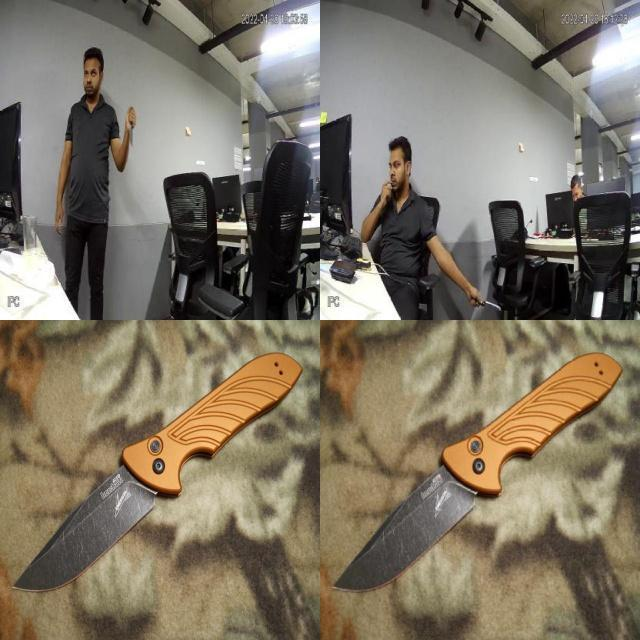-: (328, 452, 481, 594), (8, 452, 161, 593), (479, 292, 501, 319), (127, 116, 136, 148)
